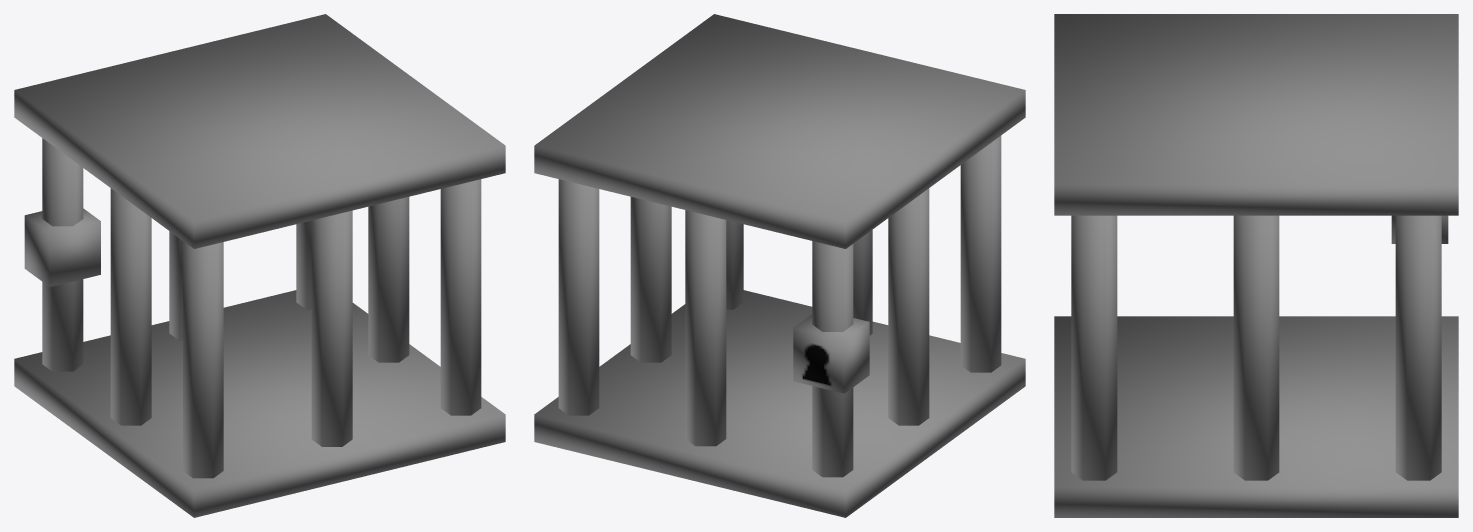
File: Cage.fbx
The picture shows the model from 3 angles, left to right: view 1: azimuth 30°, elevation 25°; view 2: azimuth 150°, elevation 25°; view 3: azimuth 270°, elevation 25°; orthographic projection. The views are drawn at different scales.
Visible parts, largest first — view 1: Cube; view 2: Cube; view 3: Cube.
Part boxes in pixels (left/top/right/bottom): Cube: left=14, top=14, right=505, bottom=517; Cube: left=534, top=14, right=1025, bottom=517; Cube: left=1054, top=14, right=1458, bottom=517.
Bounding box in the file's own units: 0.897 × 0.8158 × 0.897.
